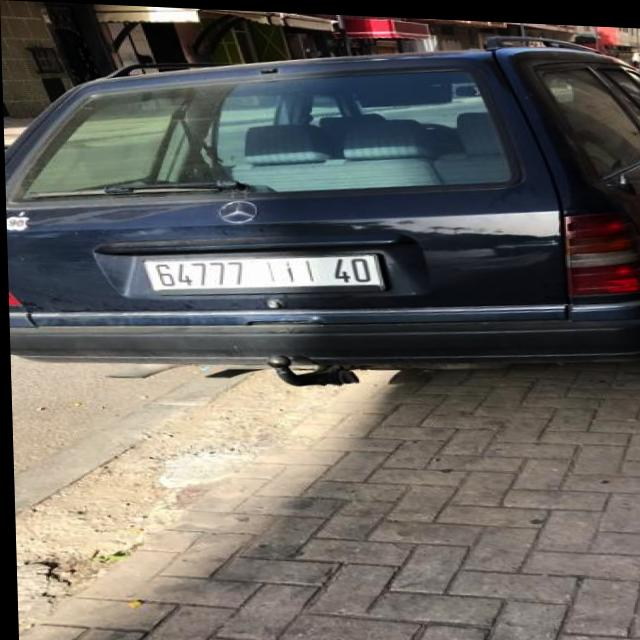License-Plate: (142, 251, 381, 290)
